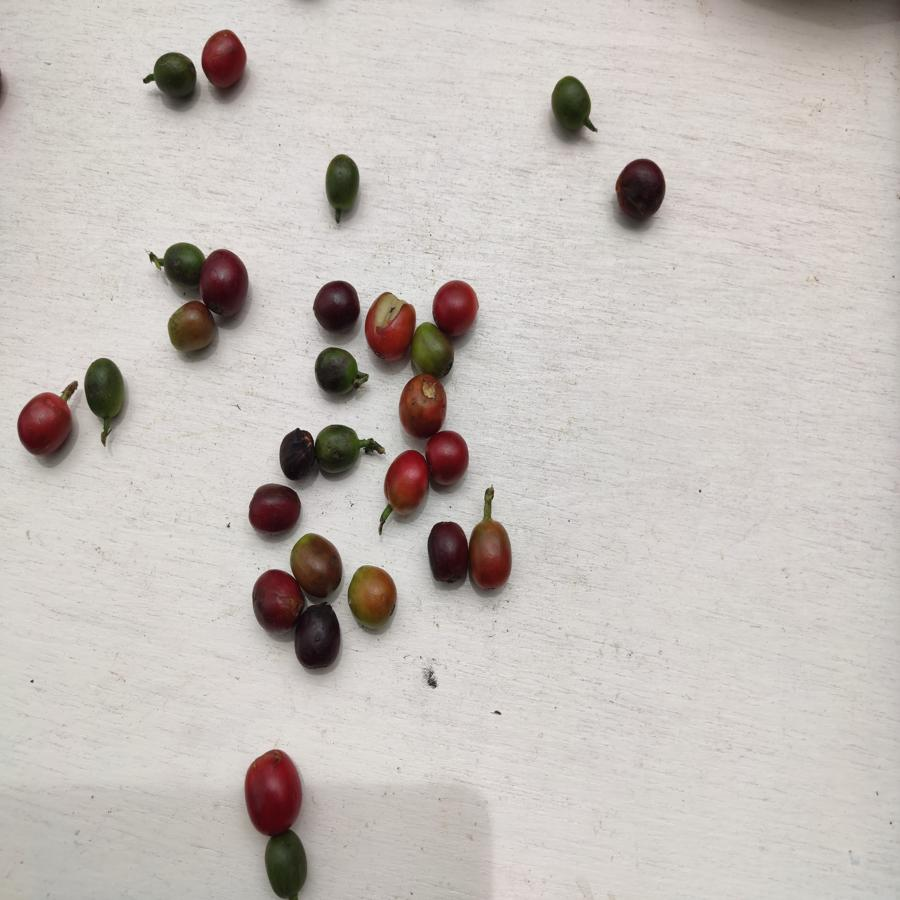Inmaduro: (262, 831, 311, 898), (316, 420, 363, 481), (82, 358, 129, 418), (549, 76, 596, 133), (149, 50, 198, 104), (312, 346, 359, 397), (323, 151, 361, 214), (157, 239, 202, 289)
Maduro: (241, 746, 306, 835), (15, 389, 71, 462), (363, 288, 415, 363), (380, 449, 430, 516), (202, 25, 247, 90), (399, 376, 450, 432), (431, 279, 480, 335), (425, 429, 473, 484)
Pinton: (292, 534, 345, 599), (349, 563, 399, 628), (165, 301, 212, 360), (414, 323, 459, 379)
Sobremaduro: (613, 156, 667, 224), (293, 601, 344, 673), (201, 246, 249, 319), (246, 483, 307, 531), (428, 517, 470, 585), (251, 570, 292, 632), (314, 281, 359, 332), (278, 429, 317, 481)
